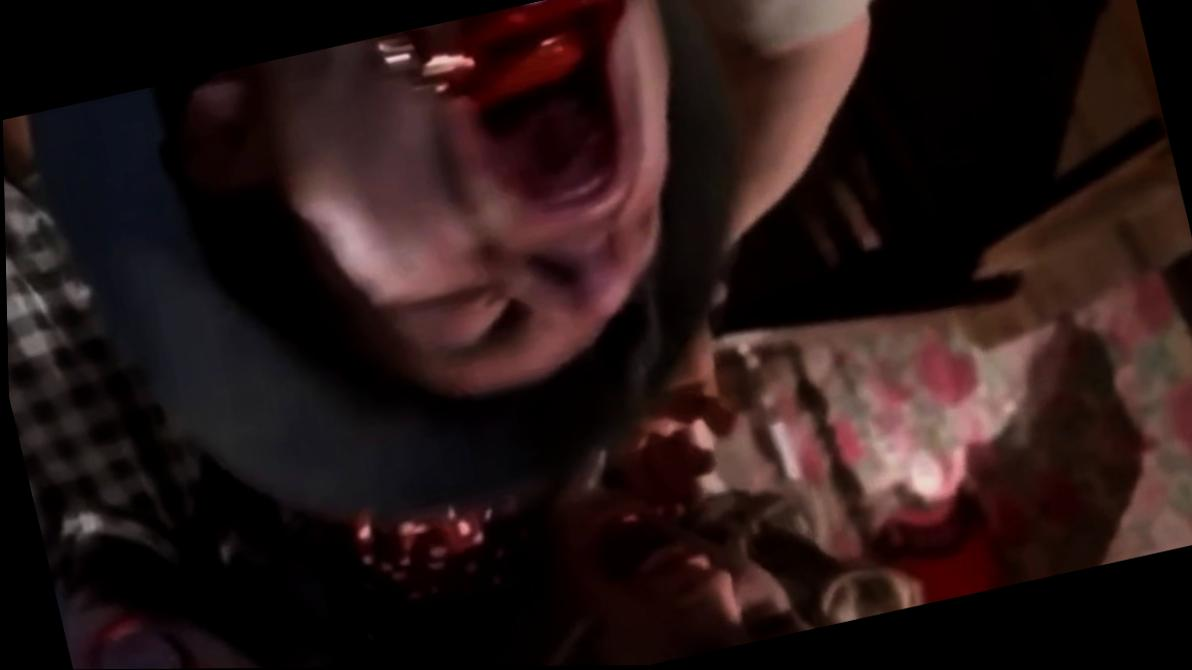Fire: (363, 0, 625, 102)
